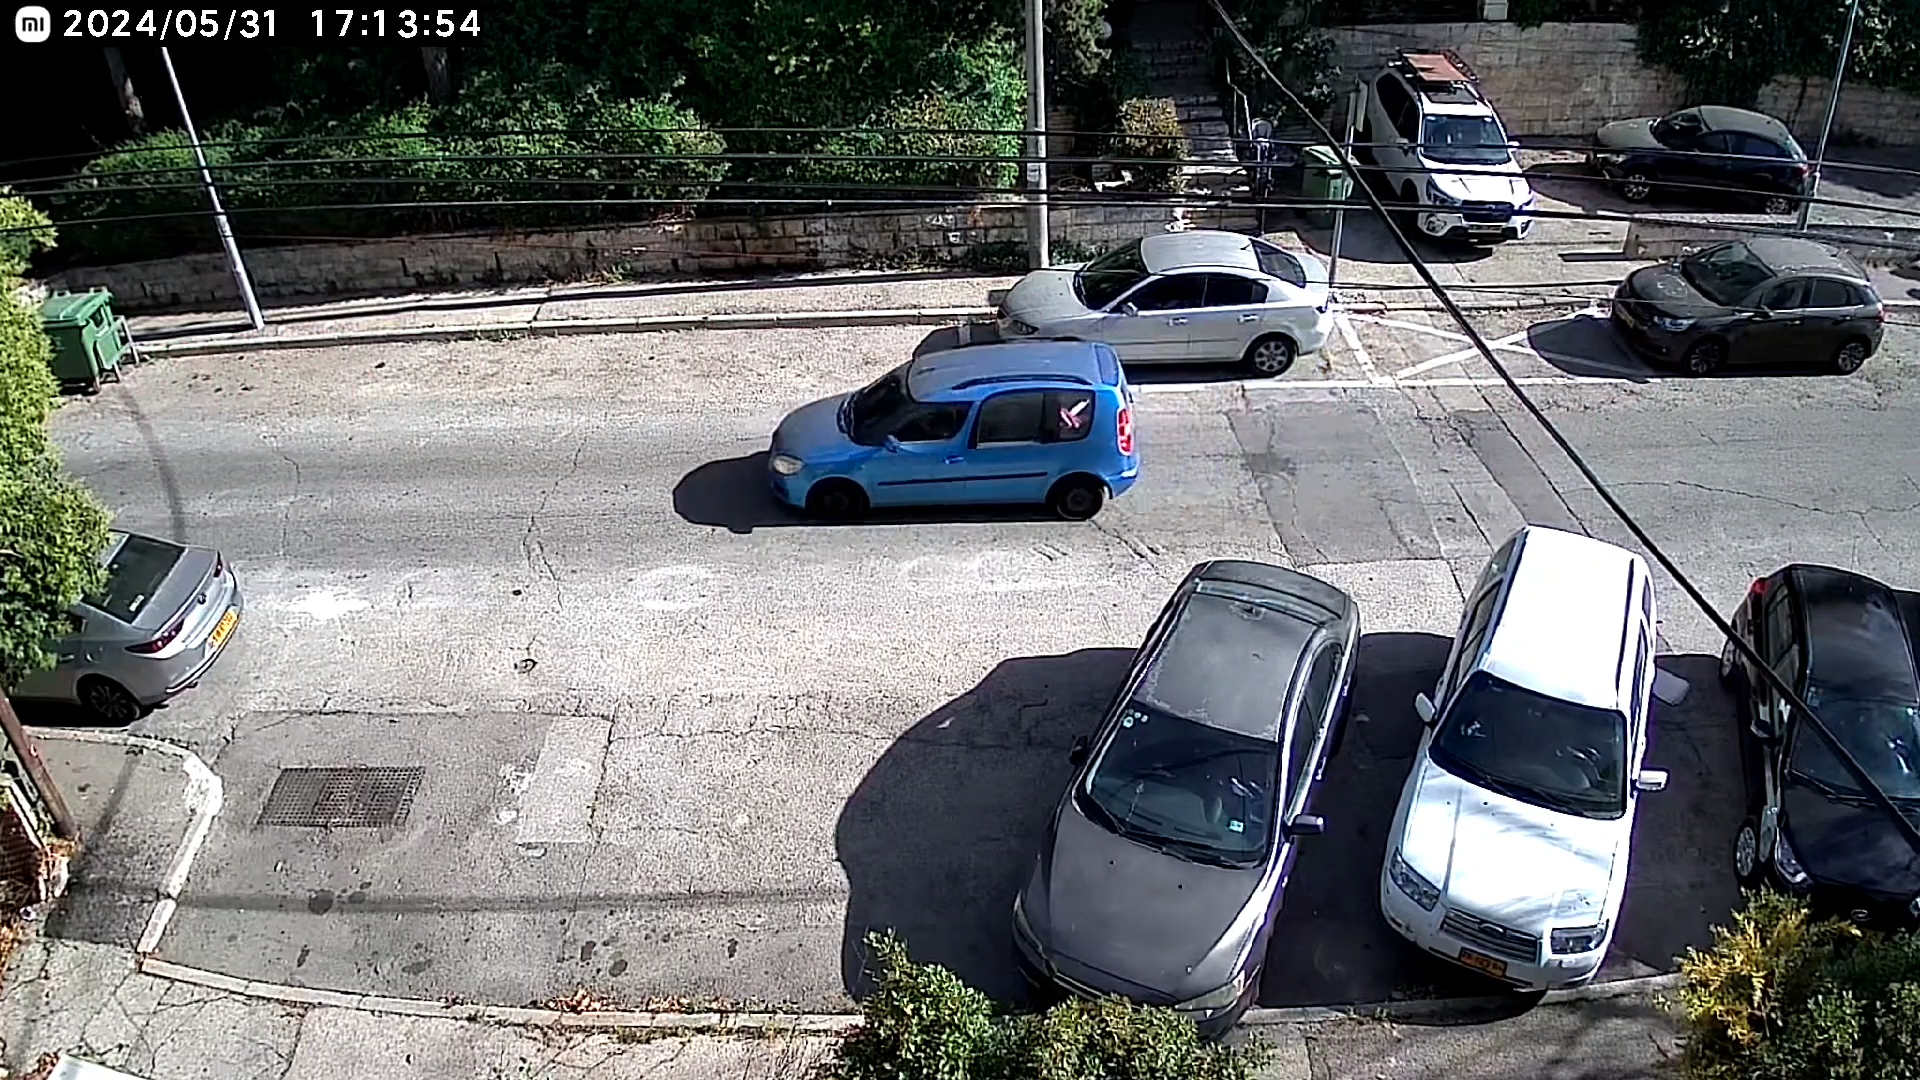moving_car: (44, 454, 385, 613), (1022, 492, 1354, 638)
